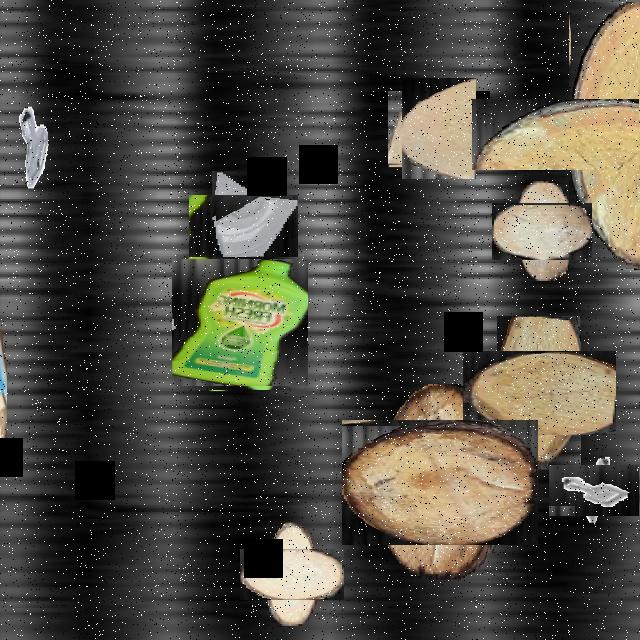glass: (200, 183, 286, 269)
metal: (560, 454, 632, 527), (12, 101, 60, 187)
plastic: (174, 256, 306, 388), (0, 144, 6, 478)
wood: (360, 402, 520, 562), (520, 50, 640, 219), (479, 334, 598, 452), (395, 84, 483, 172), (502, 192, 582, 270), (253, 535, 331, 613), (629, 25, 640, 245)
